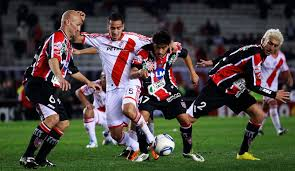soccer player: (187, 32, 285, 160), (82, 17, 155, 161), (19, 10, 83, 170), (131, 31, 205, 162)
soccerball: (152, 133, 177, 157)
